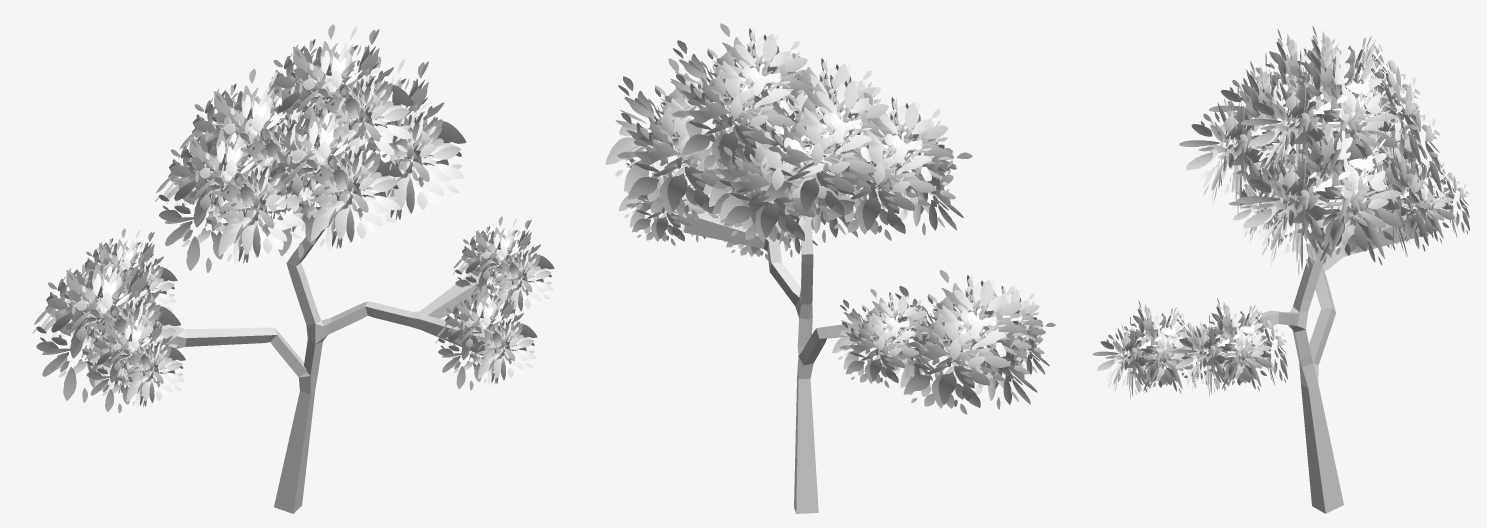
File: tree01.fbx
3 renders of one model, left to right at view 1: azimuth 30°, elevation 25°; view 2: azimuth 150°, elevation 25°; view 3: azimuth 270°, elevation 25°, orthographic. The views are drawn at different scales.
Visible parts, largest first — view 1: treeleaf_01, treebark_01; view 2: treeleaf_01, treebark_01; view 3: treeleaf_01, treebark_01.
Part boxes in pixels (x1,y1,x2,y2): treeleaf_01: (32, 24, 554, 413); treebark_01: (120, 160, 495, 513); treeleaf_01: (605, 23, 1055, 414); treebark_01: (683, 173, 987, 513); treeleaf_01: (1092, 26, 1469, 399); treebark_01: (1139, 195, 1420, 513).
Size of the model in its own units: 4655 by 4346 by 3023.
